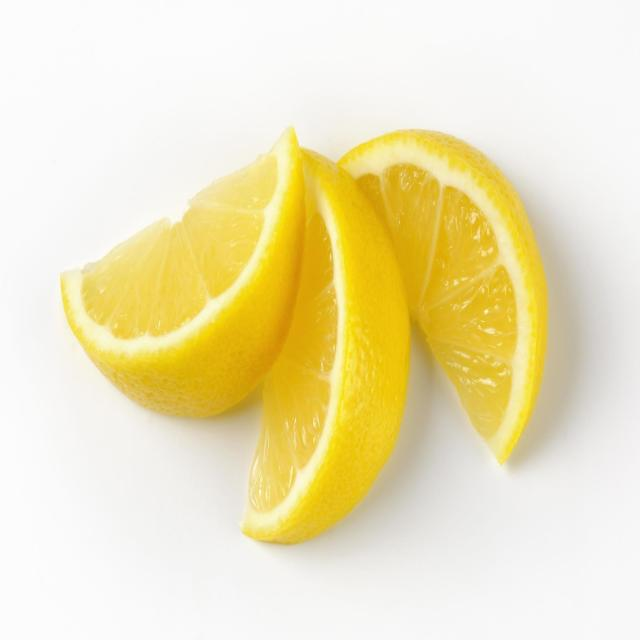lemon: (53, 120, 554, 554)
